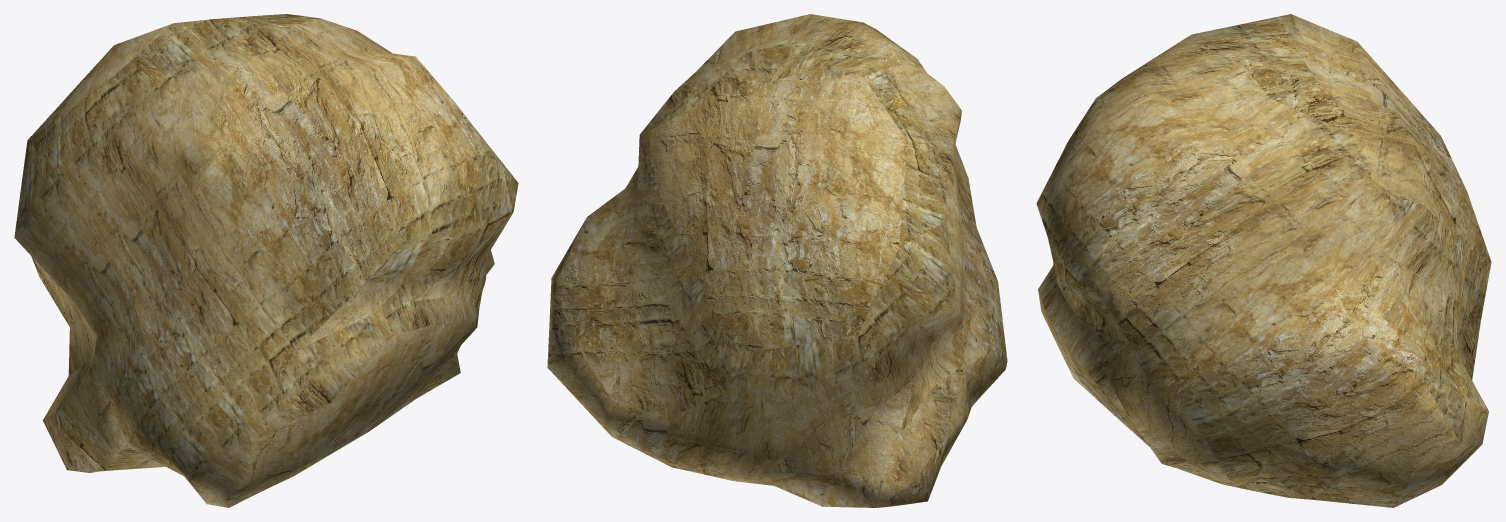
File: Boulder6.dae
3 renders of one model, left to right at view 1: azimuth 30°, elevation 25°; view 2: azimuth 150°, elevation 25°; view 3: azimuth 270°, elevation 25°, orthographic. The views are drawn at different scales.
Parts seen in each view (by area): view 1: rock0; view 2: rock0; view 3: rock0.
Boxes of the visible parts, x1,y1,x2,y2 form: rock0: (14, 14, 518, 507); rock0: (547, 14, 1007, 507); rock0: (1036, 14, 1491, 507).
Size of the model in its own units: 1.53 by 1.48 by 1.57.
